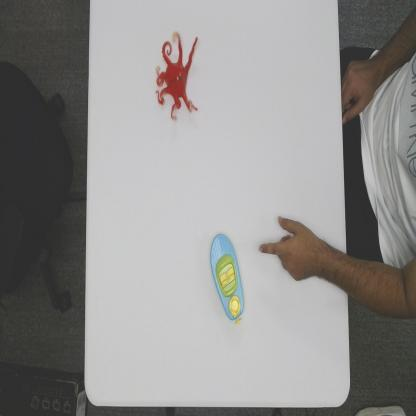Boat: (209, 231, 245, 325)
Hand: (258, 214, 332, 285)
Octopus: (154, 30, 200, 122)
